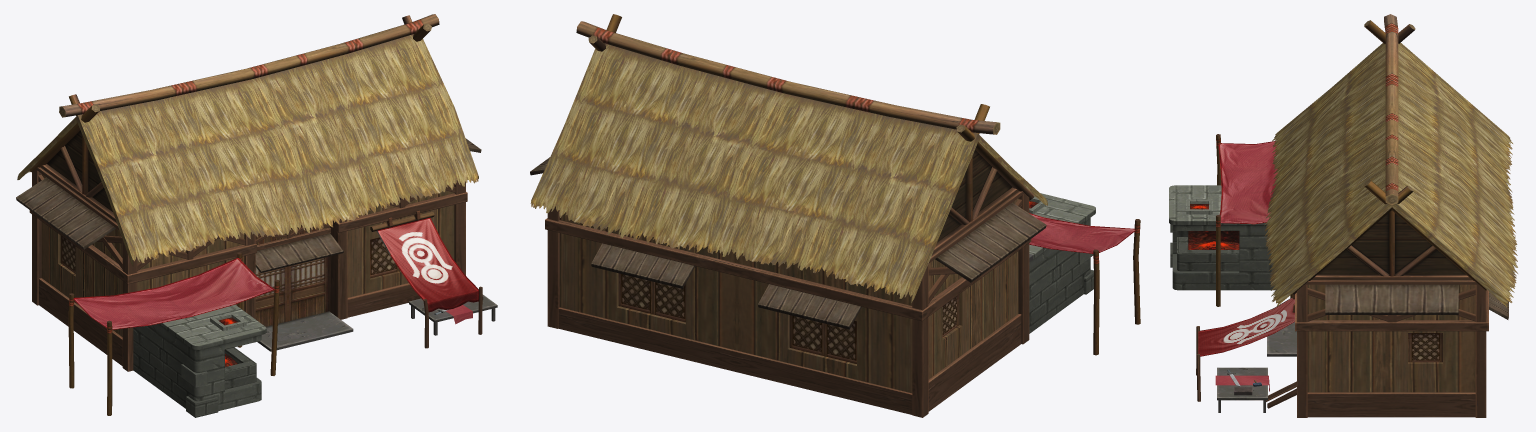
Rendered from SV_BUD_forest_tiejiangpu_0.FBX.
The picture shows the model from 3 angles, left to right: view 1: azimuth 30°, elevation 25°; view 2: azimuth 150°, elevation 25°; view 3: azimuth 270°, elevation 25°; orthographic projection. The views are drawn at different scales.
Visible parts, largest first — view 1: ST_BUD_forest_tiejiangpu_0, ST_BUD_forest_tiejiangpu_0_wuding; view 2: ST_BUD_forest_tiejiangpu_0, ST_BUD_forest_tiejiangpu_0_wuding; view 3: ST_BUD_forest_tiejiangpu_0, ST_BUD_forest_tiejiangpu_0_wuding.
Part boxes in pixels (x1,y1,x2,y2): ST_BUD_forest_tiejiangpu_0: (16, 14, 497, 417); ST_BUD_forest_tiejiangpu_0_wuding: (17, 34, 478, 266); ST_BUD_forest_tiejiangpu_0: (530, 14, 1140, 417); ST_BUD_forest_tiejiangpu_0_wuding: (530, 43, 1047, 302); ST_BUD_forest_tiejiangpu_0: (1169, 14, 1508, 417); ST_BUD_forest_tiejiangpu_0_wuding: (1264, 42, 1517, 307).
Size of the model in its own units: 15.03 by 7.99 by 10.84.
